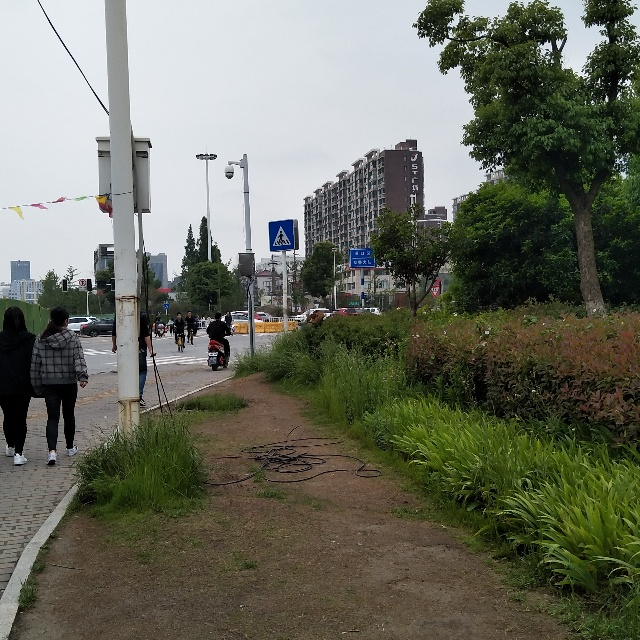crosswalk: (267, 222, 298, 252)
